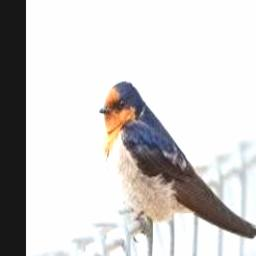Swallow: (99, 81, 256, 246)
